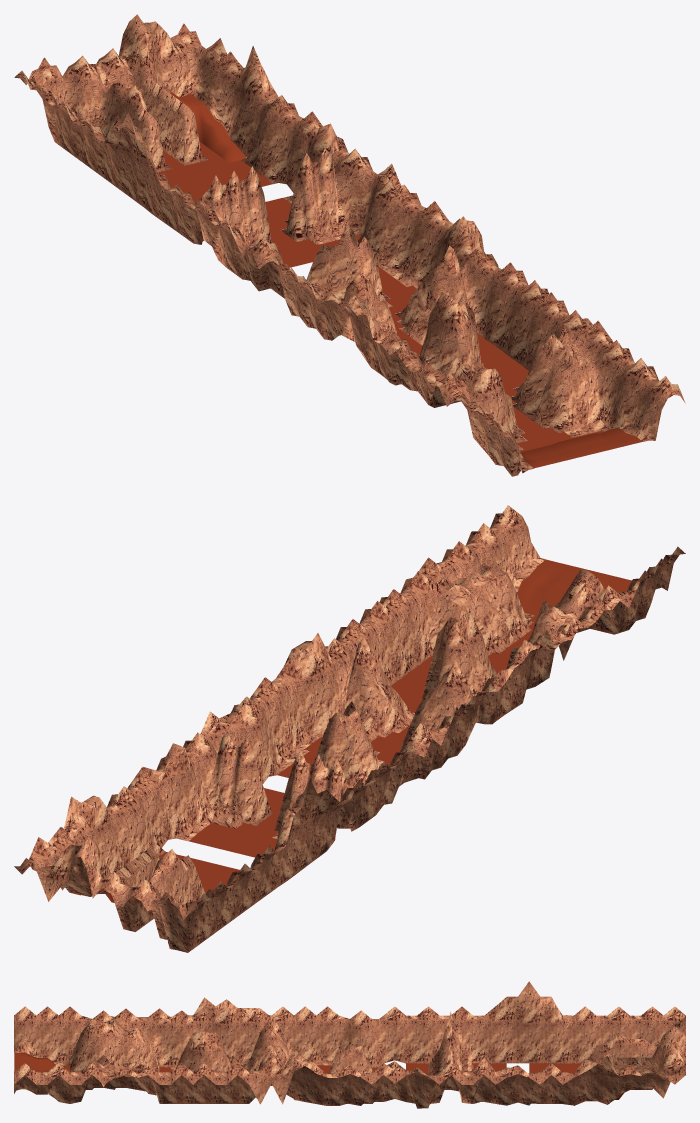
Rendered from arena1.fbx.
The picture shows the model from 3 angles, top to bottom: view 1: azimuth 30°, elevation 25°; view 2: azimuth 150°, elevation 25°; view 3: azimuth 270°, elevation 25°; orthographic projection. The views are drawn at different scales.
Parts seen in each view (by area): view 1: elevacionesMontañas, Plane002, terreno1, plat_final; view 2: elevacionesMontañas, Plane002, terreno1; view 3: elevacionesMontañas, Plane002, terreno1.
Part boxes in pixels (box(x1,y1,x2,y2)): elevacionesMontañas: box(14, 14, 685, 476); Plane002: box(158, 141, 571, 449); terreno1: box(520, 427, 642, 468); plat_final: box(170, 92, 246, 162); elevacionesMontañas: box(14, 505, 685, 952); Plane002: box(158, 615, 537, 893); terreno1: box(517, 559, 631, 634); elevacionesMontañas: box(14, 981, 685, 1108); Plane002: box(159, 1063, 580, 1103); terreno1: box(14, 1052, 69, 1071).
Bounding box in the file's own units: 206 × 121 × 963.
